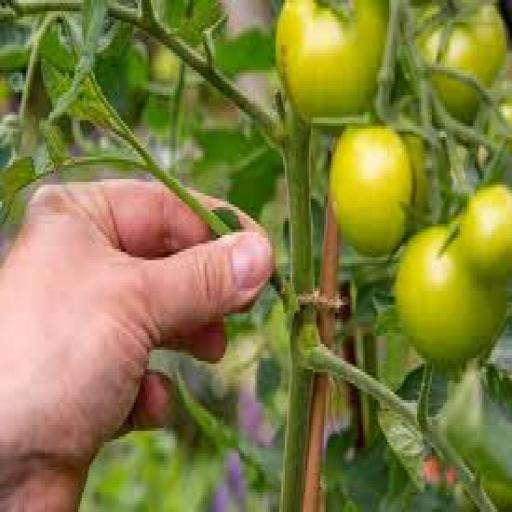tomato: (395, 227, 506, 366), (276, 0, 389, 120), (332, 126, 413, 257), (419, 3, 506, 86), (460, 185, 511, 279), (405, 135, 428, 212), (151, 48, 178, 83), (483, 479, 511, 511), (501, 98, 511, 125)
